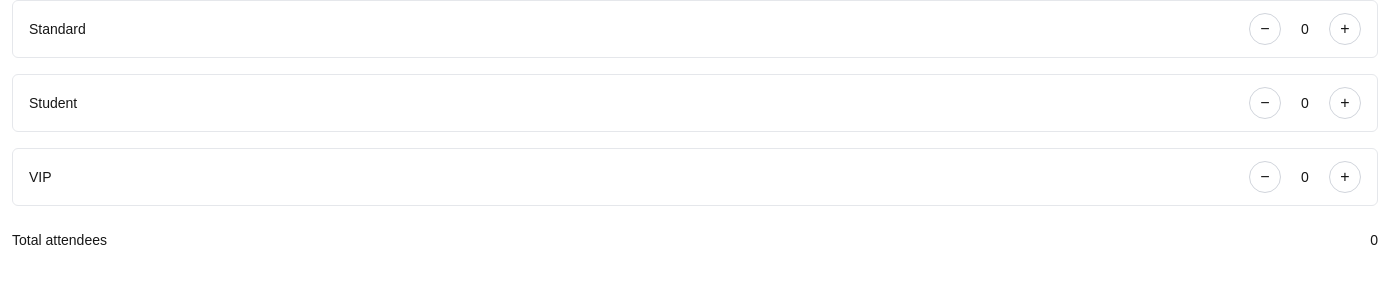
AttendeesSection › sums all ticket types into the total
Click the button with test id "ticket-standard-plus". click: (1345, 29)
box: x1=1329 y1=13 x2=1361 y2=45
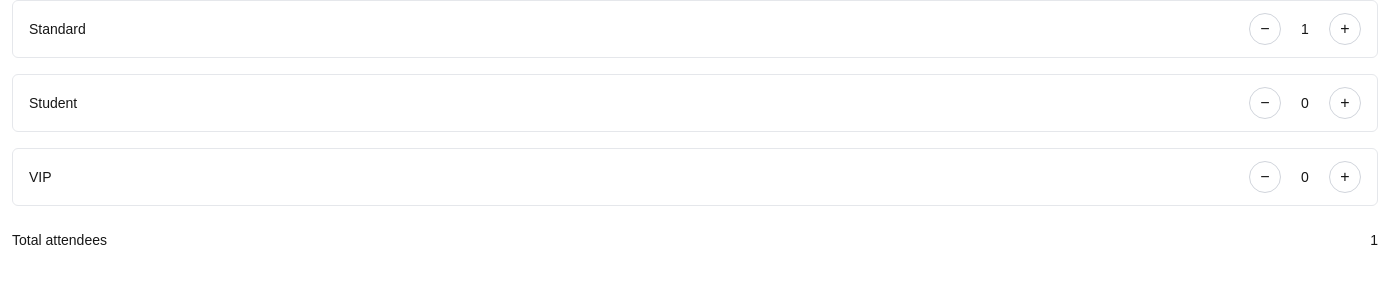
Click the button with test id "ticket-standard-plus". click: (1345, 29)
box: x1=1329 y1=13 x2=1361 y2=45
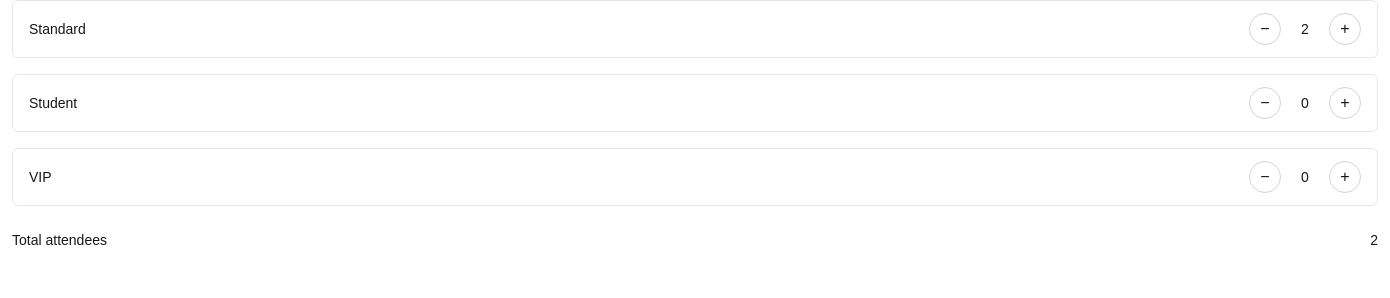
Click the button with test id "ticket-student-plus". click: (1345, 103)
box: x1=1329 y1=87 x2=1361 y2=119
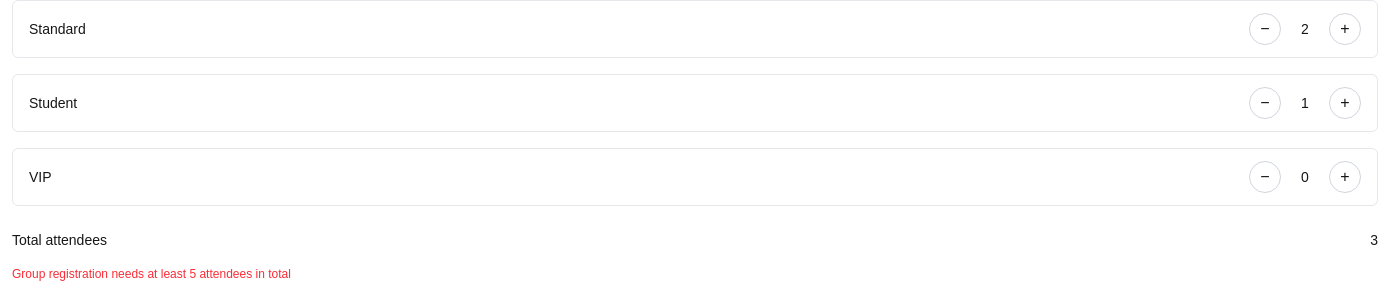
Expected: the text with test id "attendee-total" reads "3", x1=1370 y1=232 x2=1378 y2=248
